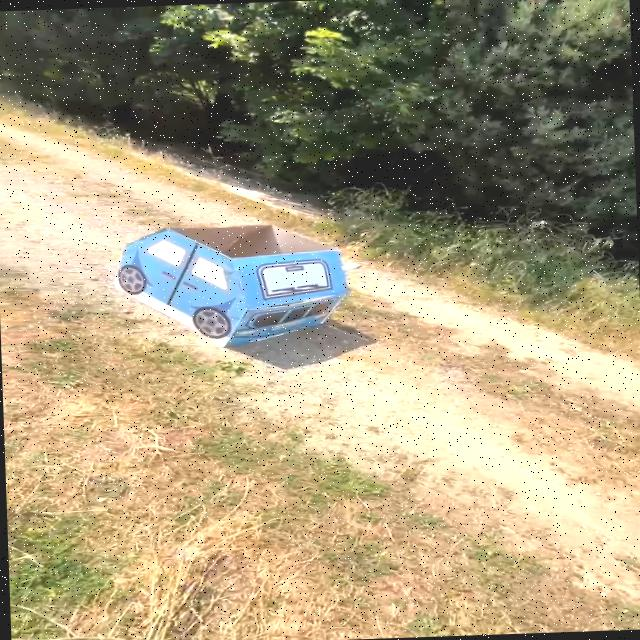blue_car: (76, 204, 371, 377)
